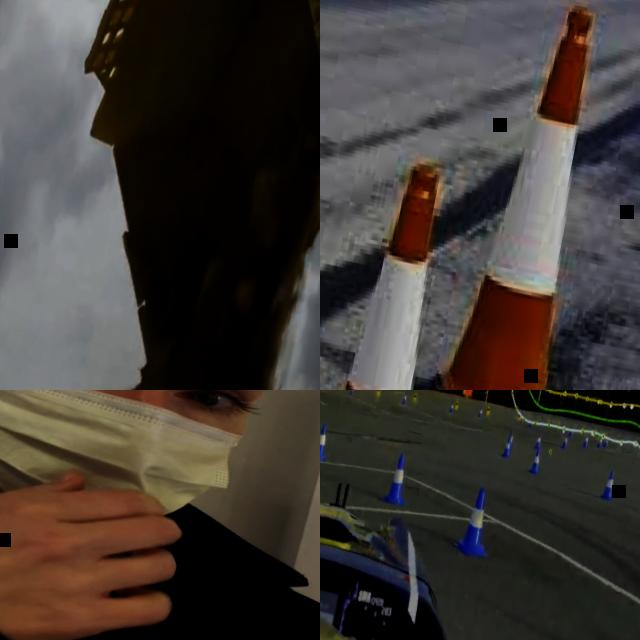Mask: (0, 390, 260, 543)
NO-Safety Vest: (0, 459, 320, 640)
Person: (0, 390, 320, 640)
Safety Cone: (395, 0, 640, 390), (320, 148, 494, 390), (454, 482, 500, 557), (383, 449, 415, 506), (600, 468, 620, 503), (320, 420, 333, 463), (528, 447, 543, 472), (500, 436, 513, 459), (506, 427, 517, 450), (533, 430, 544, 451), (582, 433, 590, 445), (596, 435, 604, 447), (602, 435, 610, 447), (562, 434, 568, 448), (402, 392, 408, 405), (486, 404, 492, 417), (412, 391, 418, 403), (449, 401, 455, 412), (454, 398, 459, 409), (347, 390, 356, 396), (478, 406, 483, 416), (375, 390, 382, 396)
vehicle: (35, 0, 320, 390), (320, 429, 640, 640)
